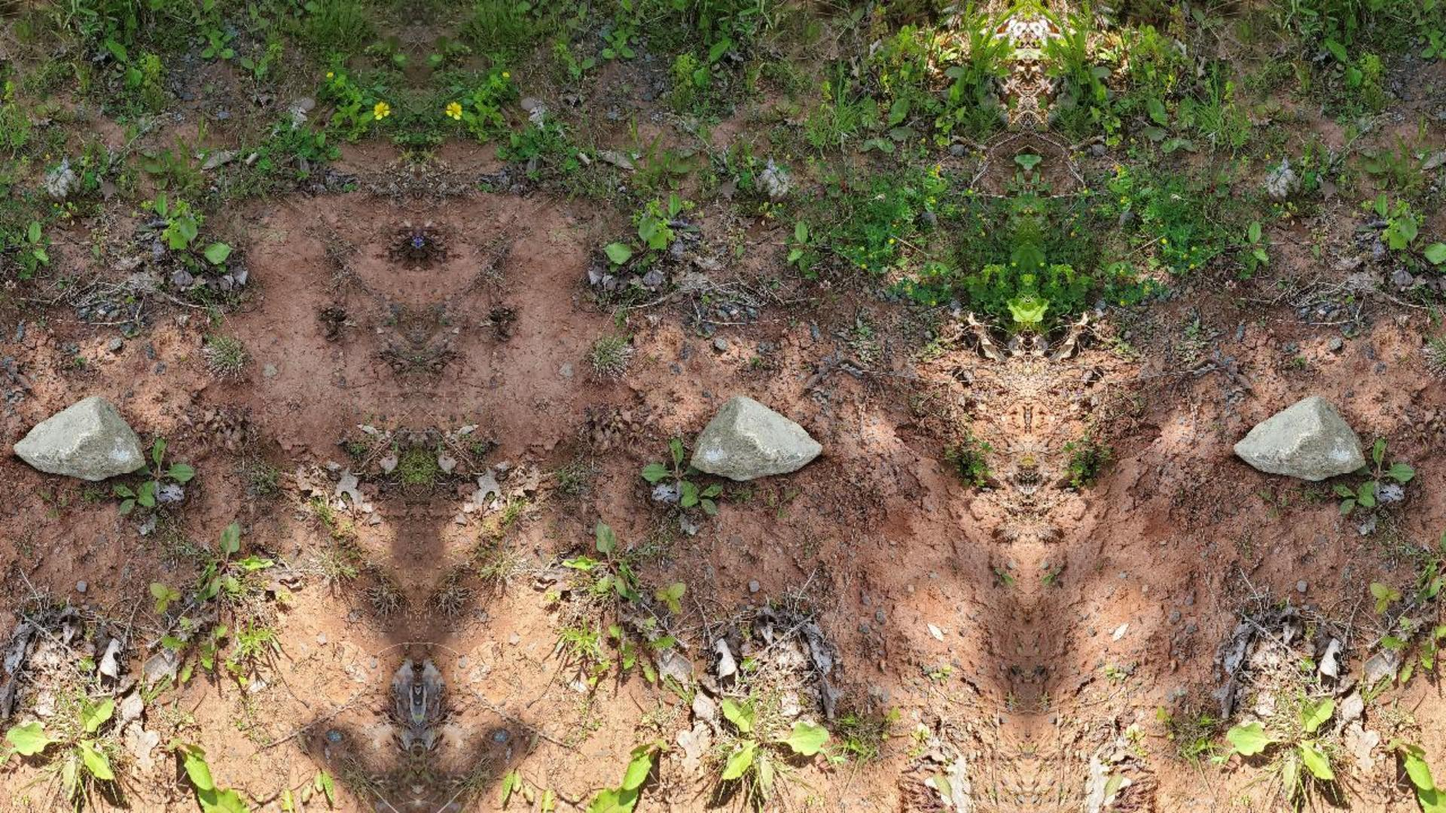rock: (690, 395, 821, 480), (14, 395, 145, 480), (1234, 395, 1365, 480)
